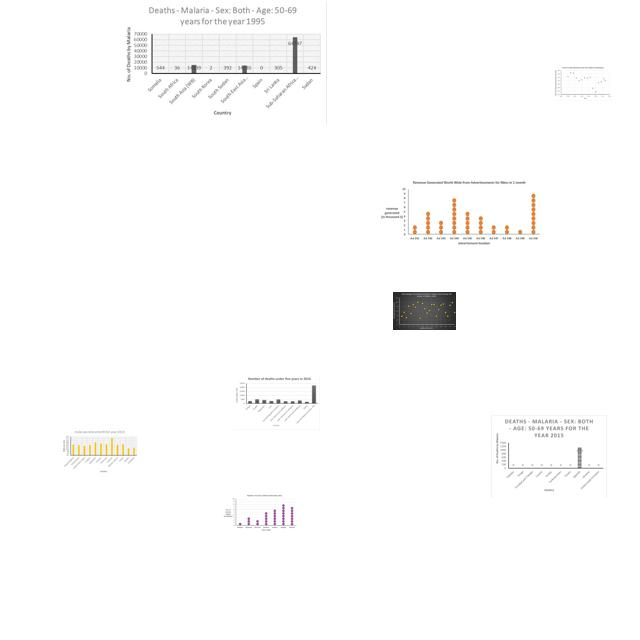Graph: (120, 1, 327, 124), (375, 178, 543, 249), (491, 415, 607, 498), (234, 375, 320, 430), (60, 428, 139, 475), (223, 494, 297, 532), (393, 292, 456, 330), (554, 66, 612, 101)
